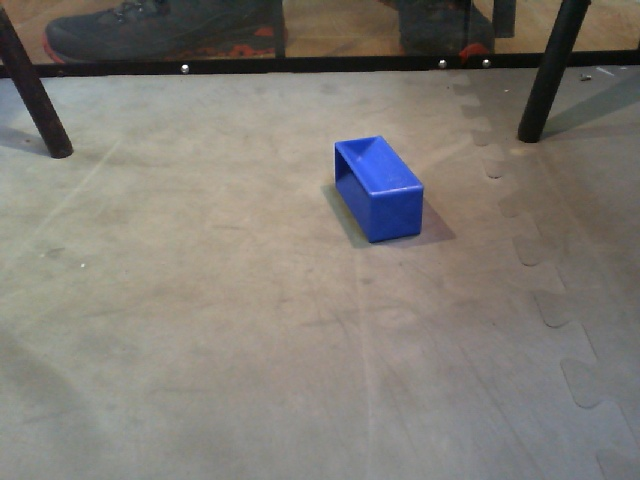BlueSample: (328, 133, 427, 247)
